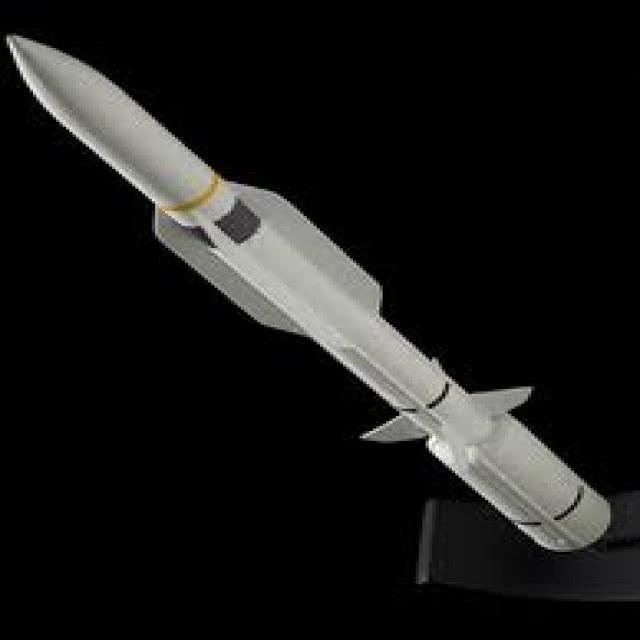missile: (0, 25, 616, 574)
